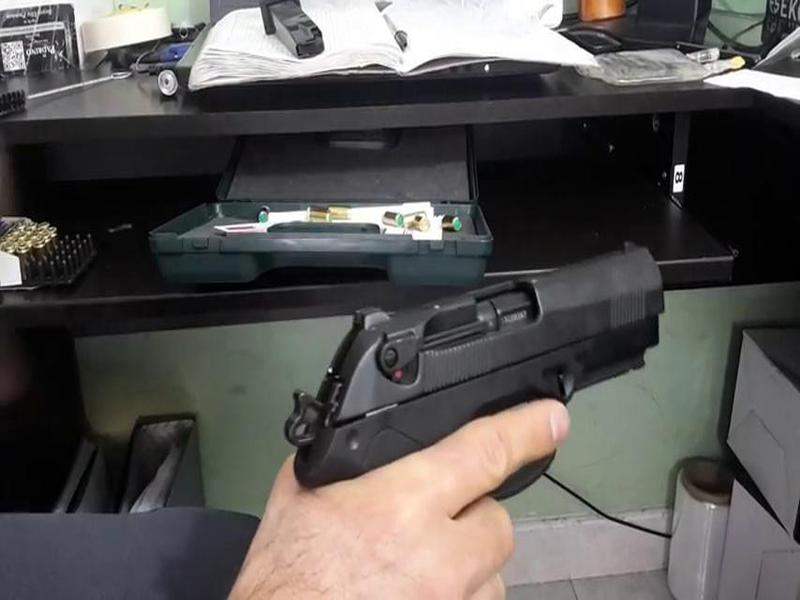Pistola: (249, 222, 675, 504)
